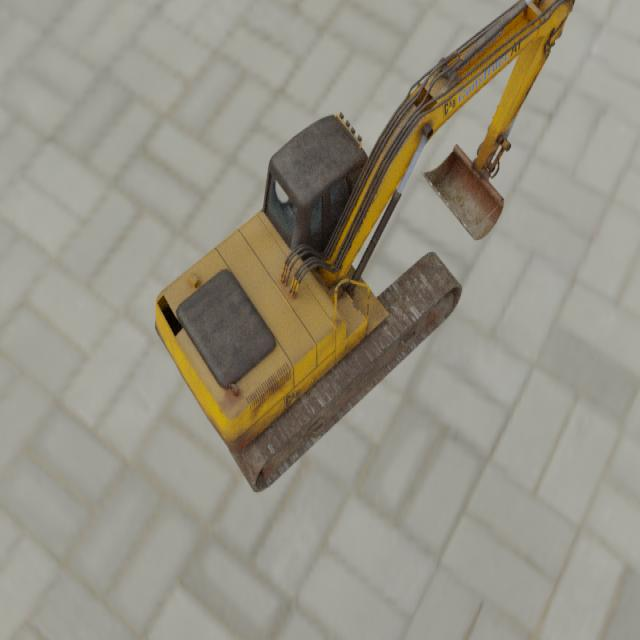excavator: (155, 0, 575, 495)
